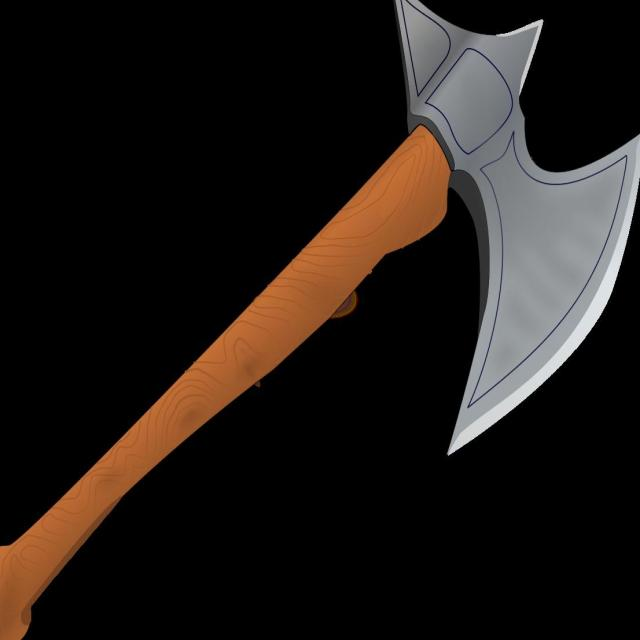Gun: (0, 0, 636, 640)
